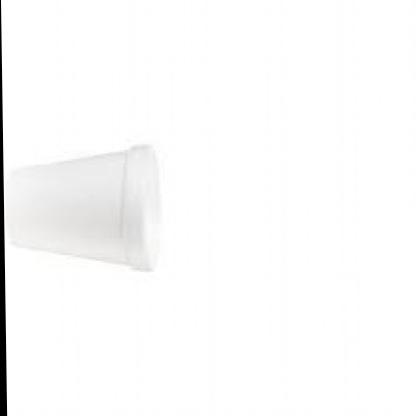trash: (6, 145, 158, 269)
